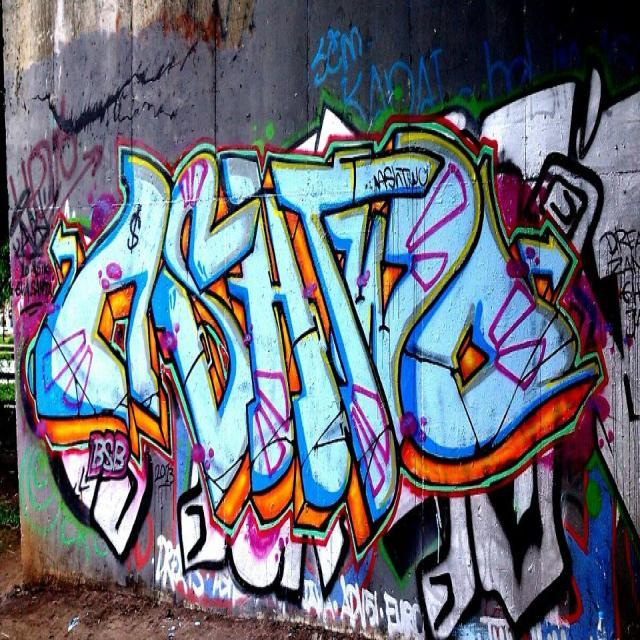-: (21, 94, 606, 640), (9, 94, 103, 314), (314, 18, 448, 124), (483, 30, 539, 106)
